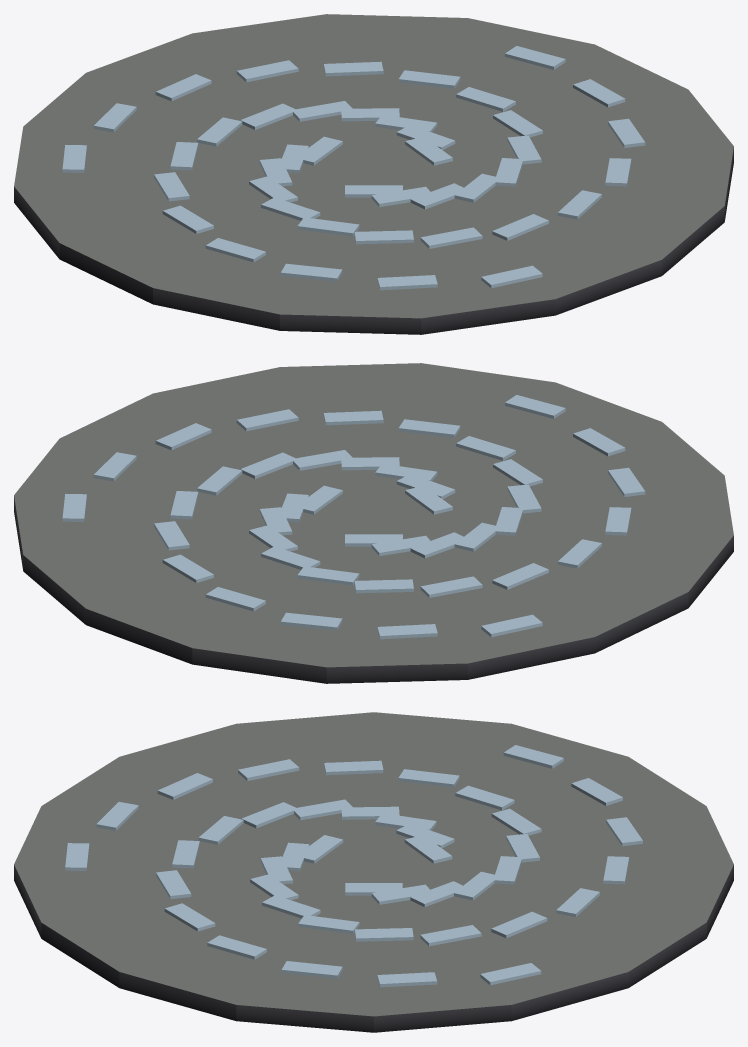
The model's file is updraft_vent.glb.
3 renders of one model, top to bottom at view 1: azimuth 30°, elevation 25°; view 2: azimuth 150°, elevation 25°; view 3: azimuth 270°, elevation 25°, orthographic.
Parts seen in each view (by area): view 1: Updraft_Vent, Updraft_Vent_Inlay; view 2: Updraft_Vent, Updraft_Vent_Inlay; view 3: Updraft_Vent, Updraft_Vent_Inlay.
Boxes of the visible parts, bbox=[...] form: Updraft_Vent: bbox=[14, 14, 733, 334]; Updraft_Vent_Inlay: bbox=[62, 46, 645, 290]; Updraft_Vent: bbox=[14, 363, 733, 683]; Updraft_Vent_Inlay: bbox=[62, 395, 645, 639]; Updraft_Vent: bbox=[14, 712, 733, 1032]; Updraft_Vent_Inlay: bbox=[65, 745, 642, 987].
Size of the model in its own units: 4 by 0.12 by 4.
